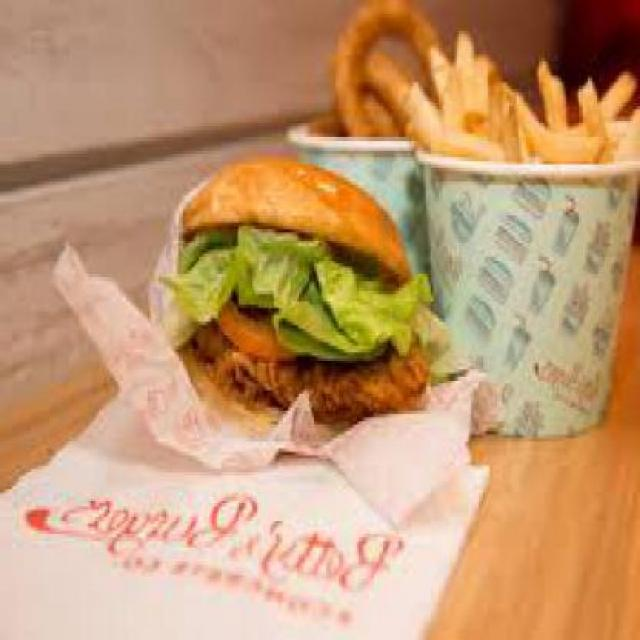hamburger: (164, 147, 421, 465)
